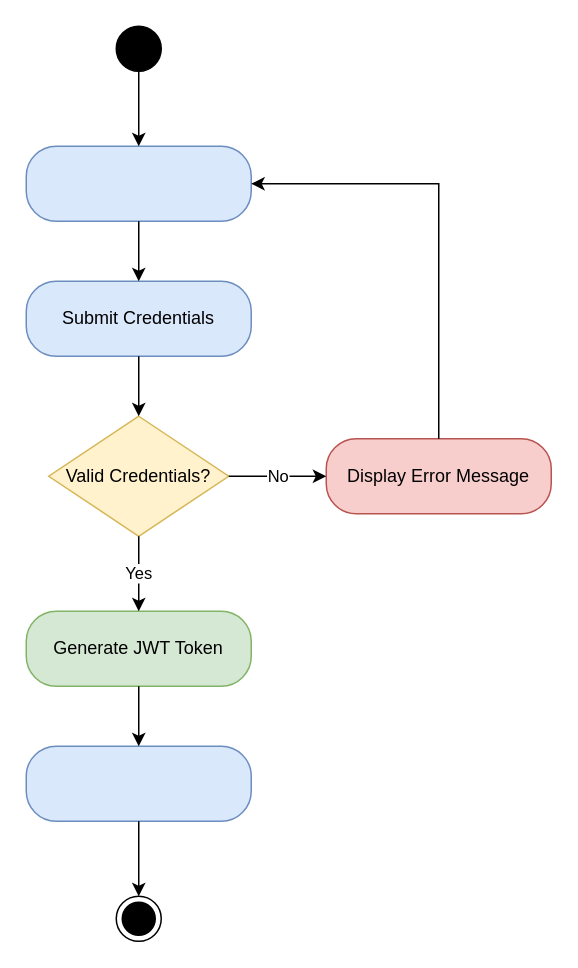
Image size: 578x968. Some labels were removed from this diagram. The shapes that lost their labels are listed below. From the top down, each one's centre as x and y in pixels, then its label:
At pixel 138 183: "Enter Email and Password".
At pixel 138 783: "Redirect to Dashboard".
